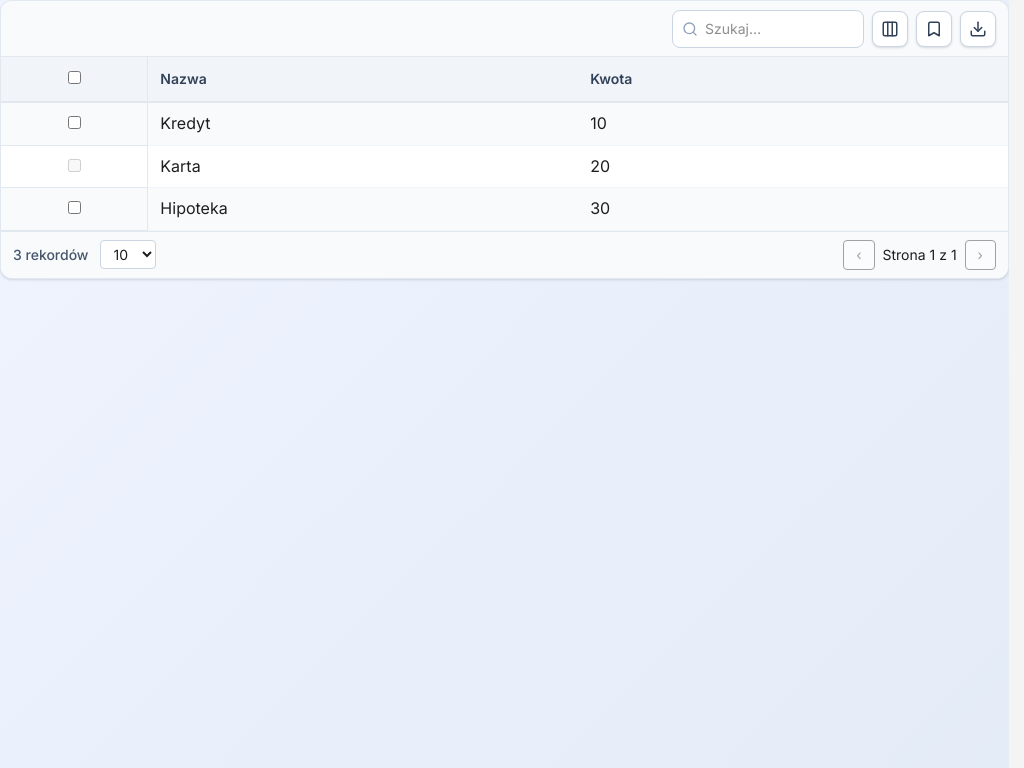
Test: DataGrid inline editing › does not select protected rows through a row, range or header selection
The width and height of the screenshot is (1024, 768).
Expected: the checkbox named "Zaznacz rekord 2" is disabled, [68,159,81,172]
Click the checkbox named "Zaznacz wszystkie rekordy spełniające filtr" at x=74, y=78, box [68,71,81,84]
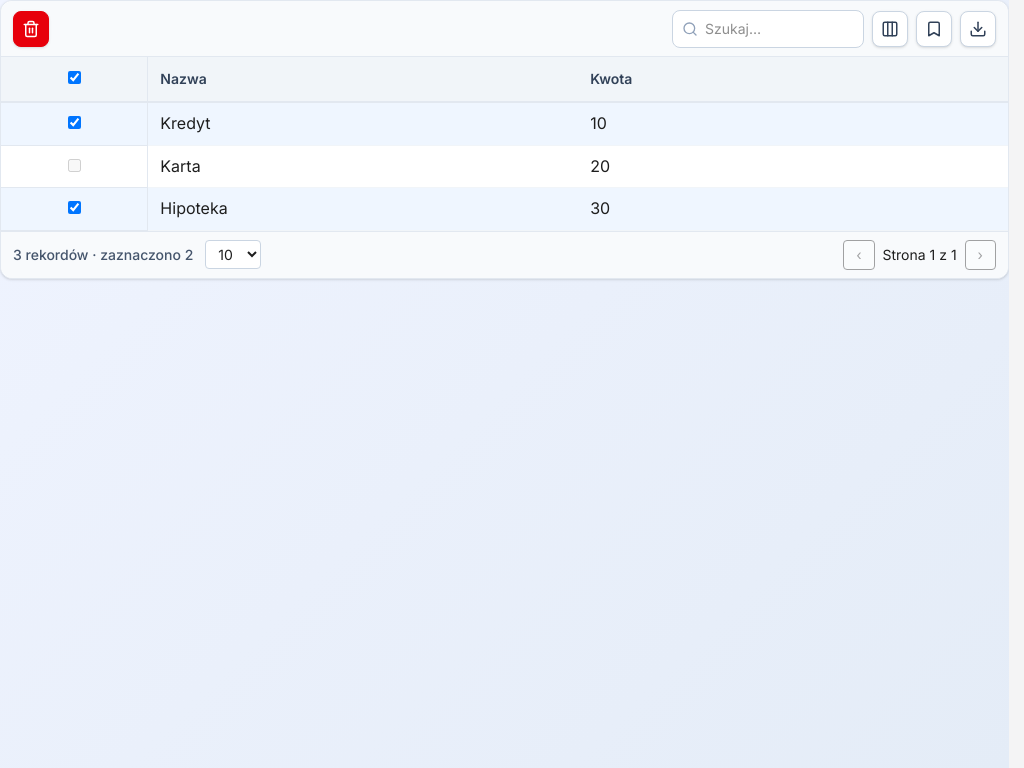
Expected: the checkbox named "Zaznacz rekord 1" is checked, [68,116,81,129]
Expected: the checkbox named "Zaznacz rekord 3" is checked, [68,201,81,214]
Expected: the button named "Usuń zaznaczone (2)" is shown, [13,10,49,46]
